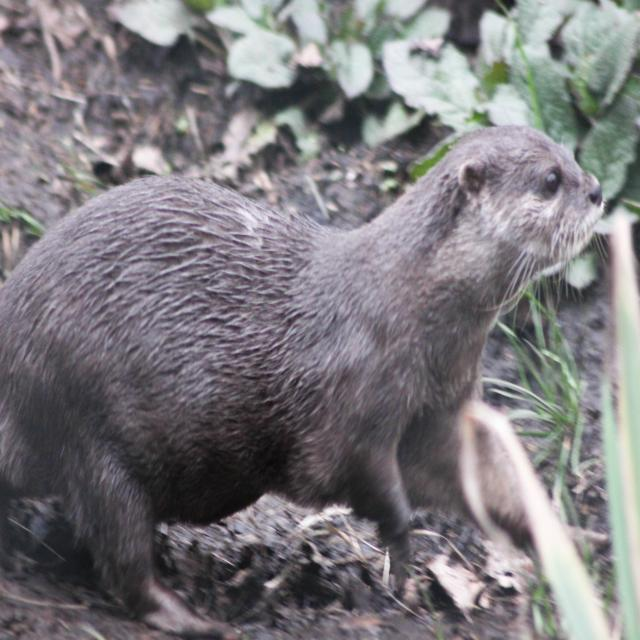otter: (1, 128, 604, 530)
